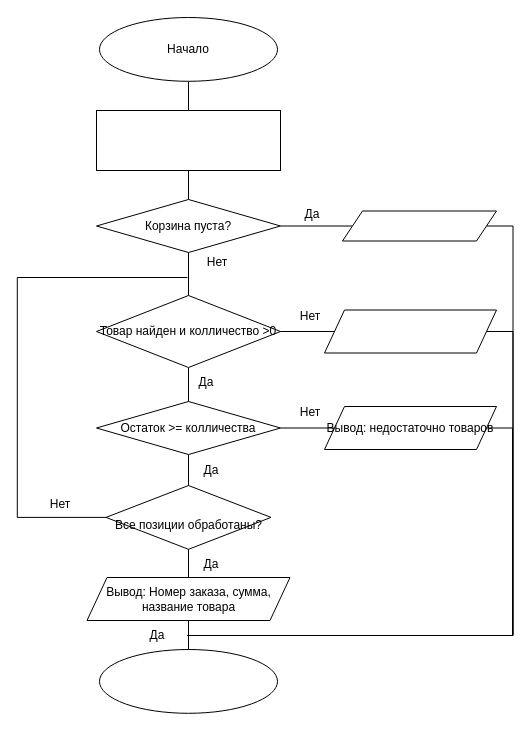
This 532x731 diagram has some shape labels left out. The box of each missing label's shape, as (x1, y1, x2, y2) in pixels:
Вывод: Корзина пуста: (342, 210, 496, 241)
Вывод: сообщение об ошибке: (324, 309, 496, 353)
Конец: (98, 648, 278, 713)
Позиция корзины и идентификатор пользователя: (96, 110, 280, 170)
